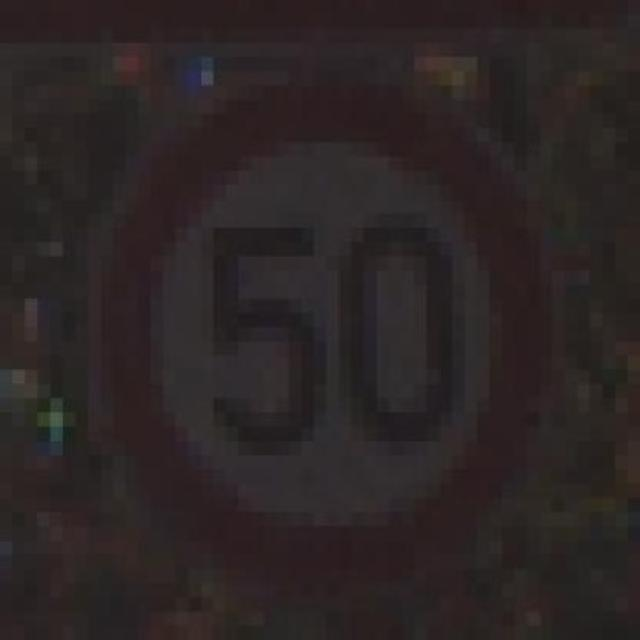forb_speed_over_50: (104, 84, 542, 584)
